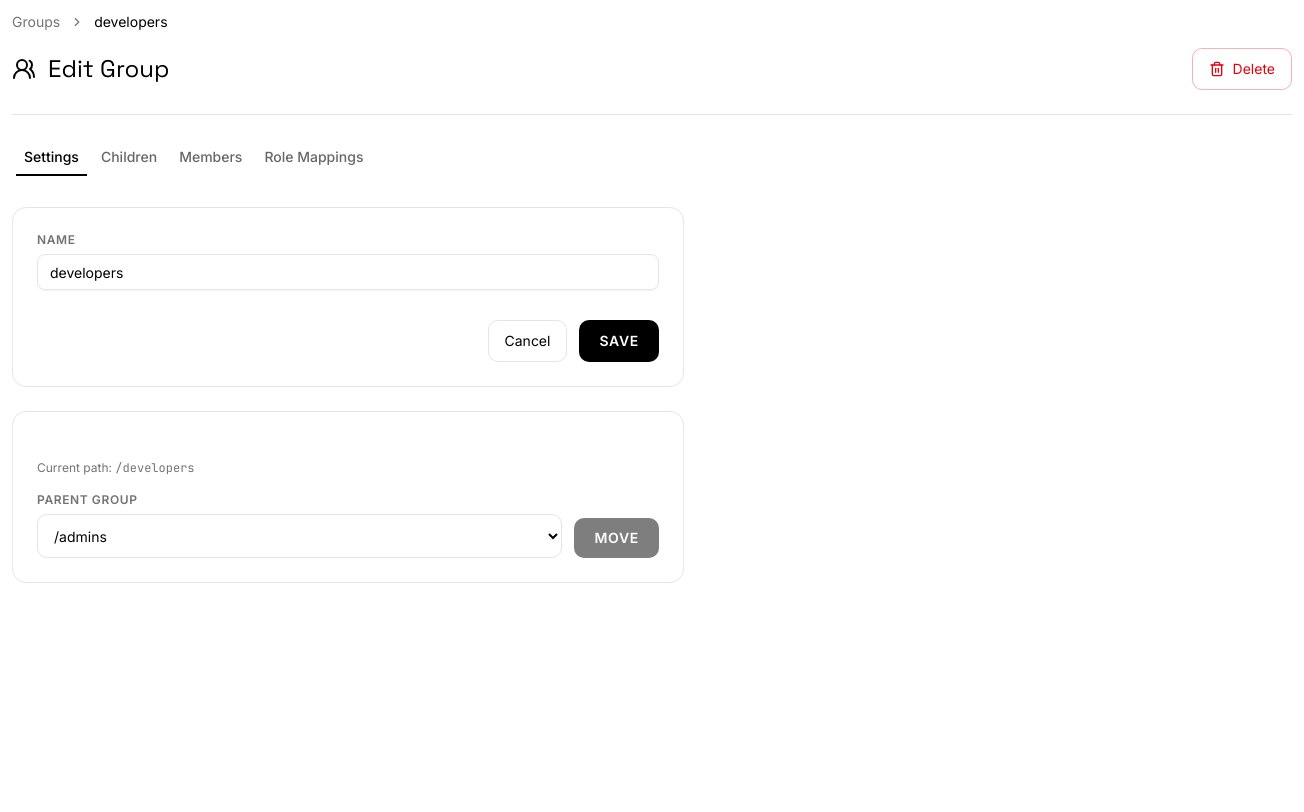
Test case: GroupEditPage children › lists direct sub-groups on the Children tab
Click the tab "Children" at (129, 157), box [92,142,166,172]
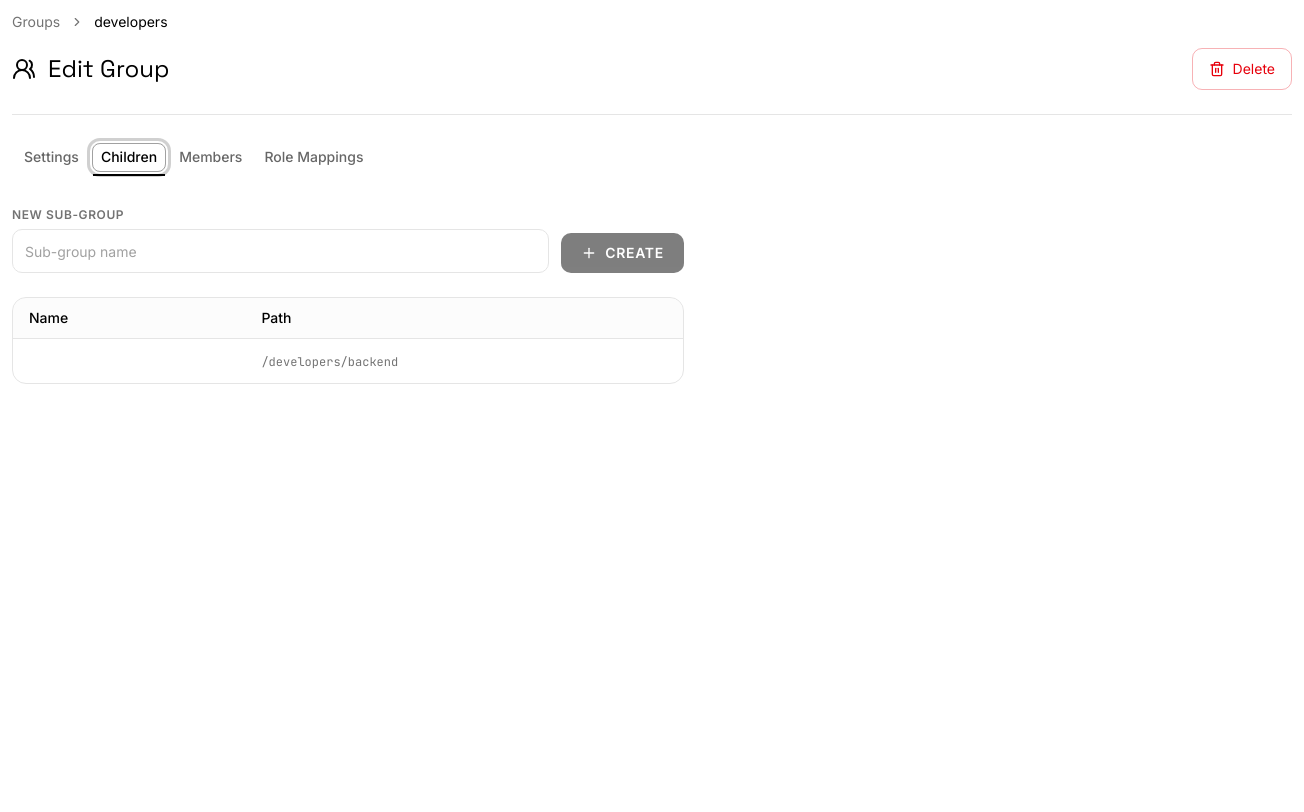
Expected: the text "admins" is not shown
Result: the text "/developers/backend" is shown at [261,354,398,370]
